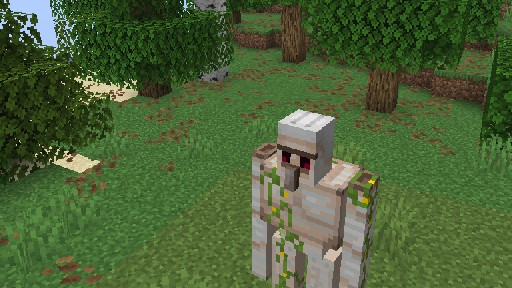iron_golem: (251, 108, 380, 288)
